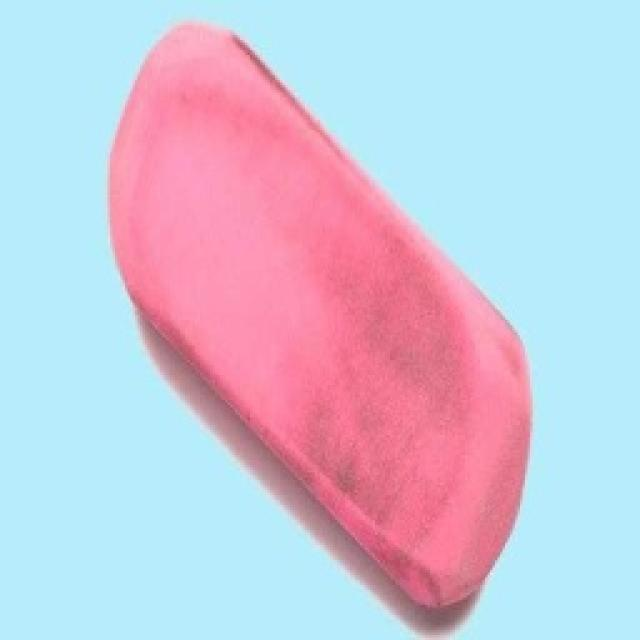Silgi: (109, 23, 532, 608)
